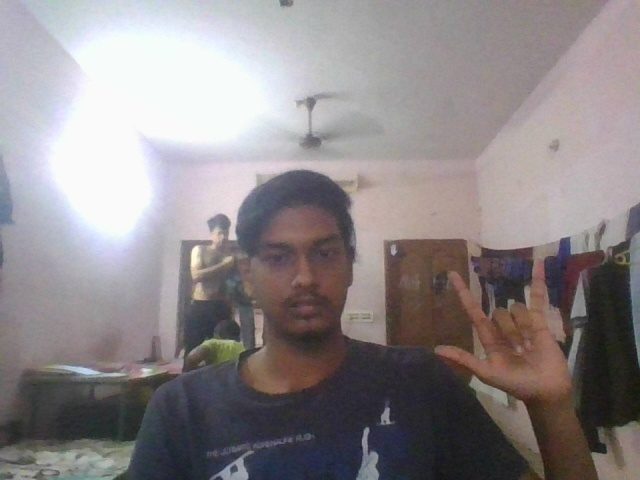iloveyou: (431, 253, 578, 400)
